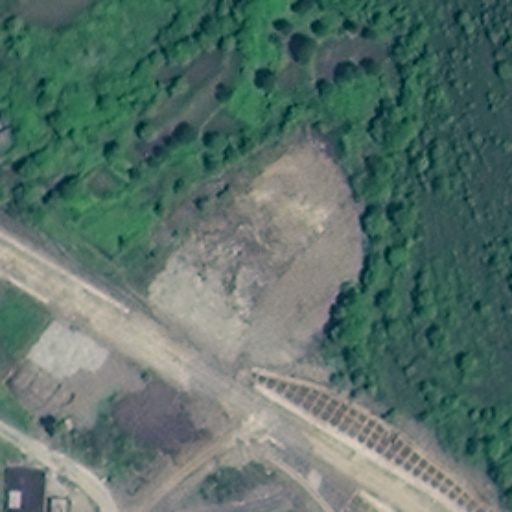landslide: (177, 143, 359, 358)
